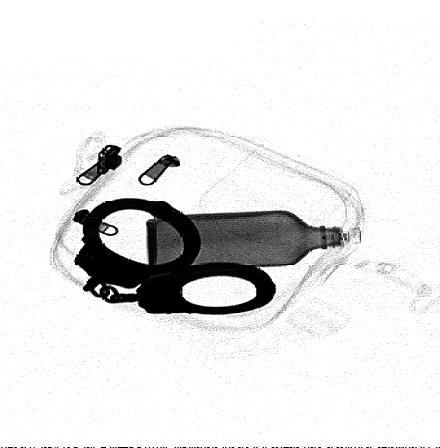HandCuffs: (74, 197, 277, 315)
